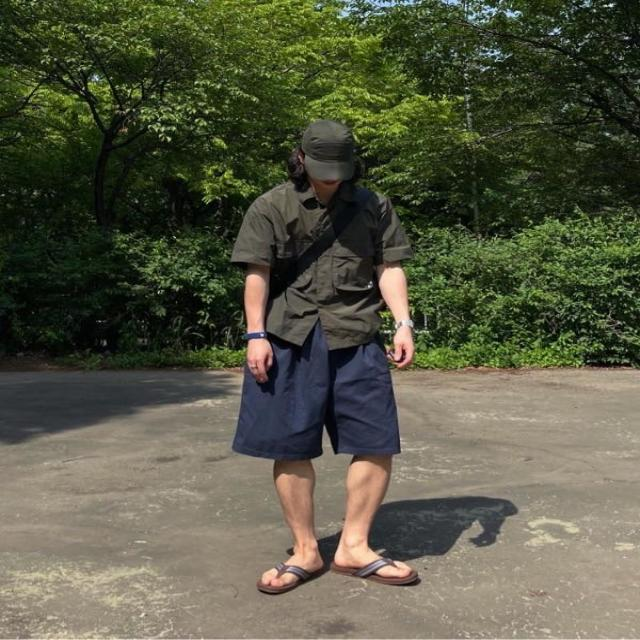shirt: (229, 170, 410, 346)
shortpants: (229, 316, 404, 459)
